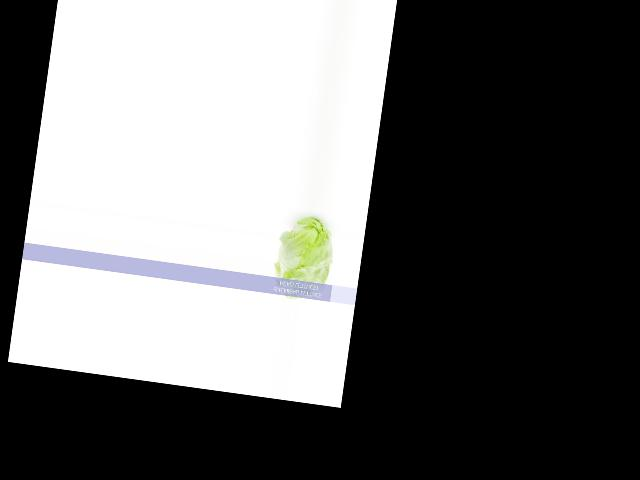lettuce: (270, 209, 336, 303)
